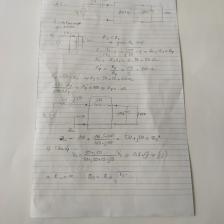Paper: (36, 1, 194, 217)
